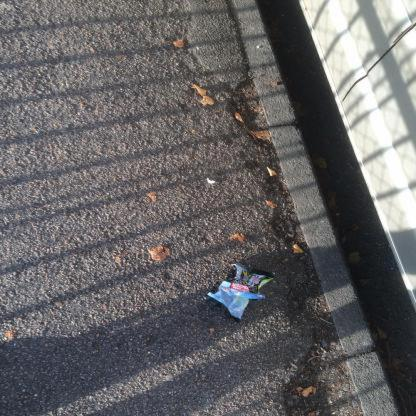Plastic bag - wrapper: (203, 261, 275, 324)
